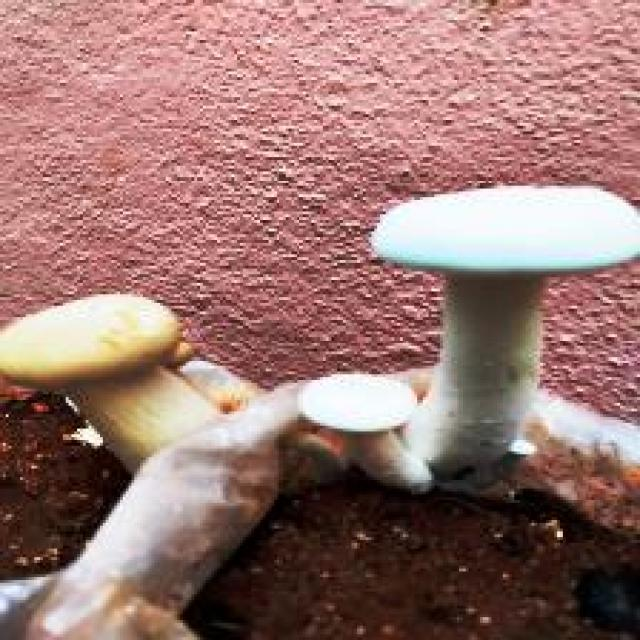field-mushroom: (369, 180, 640, 488)
